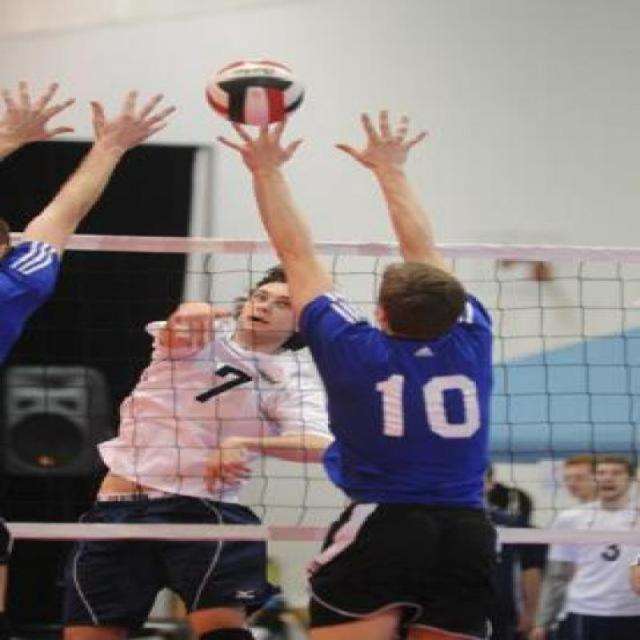volleyball: (206, 55, 305, 123)
